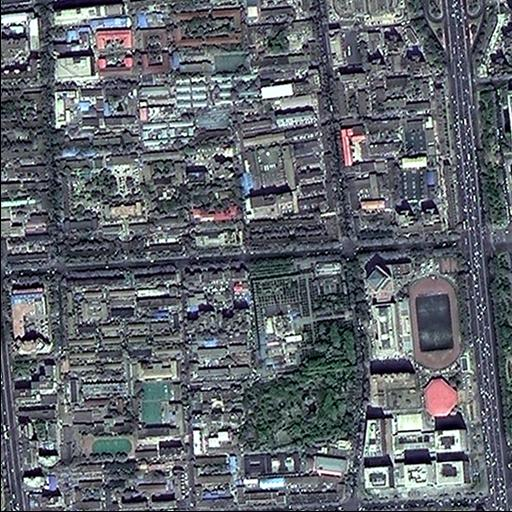school: (78, 397, 185, 461), (399, 120, 433, 205), (174, 48, 257, 75)
